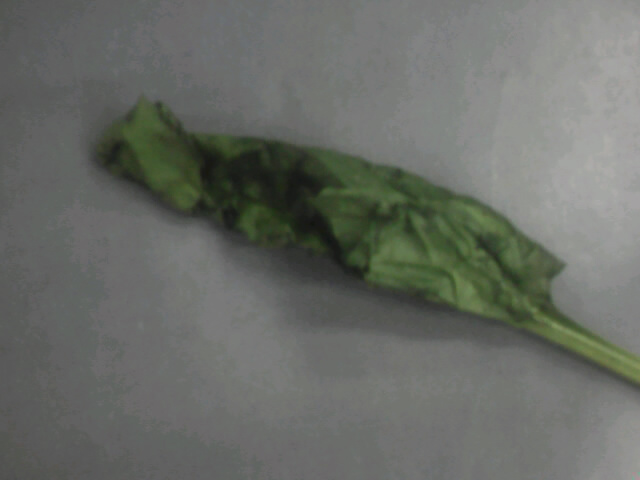yellow: (94, 91, 588, 366)
